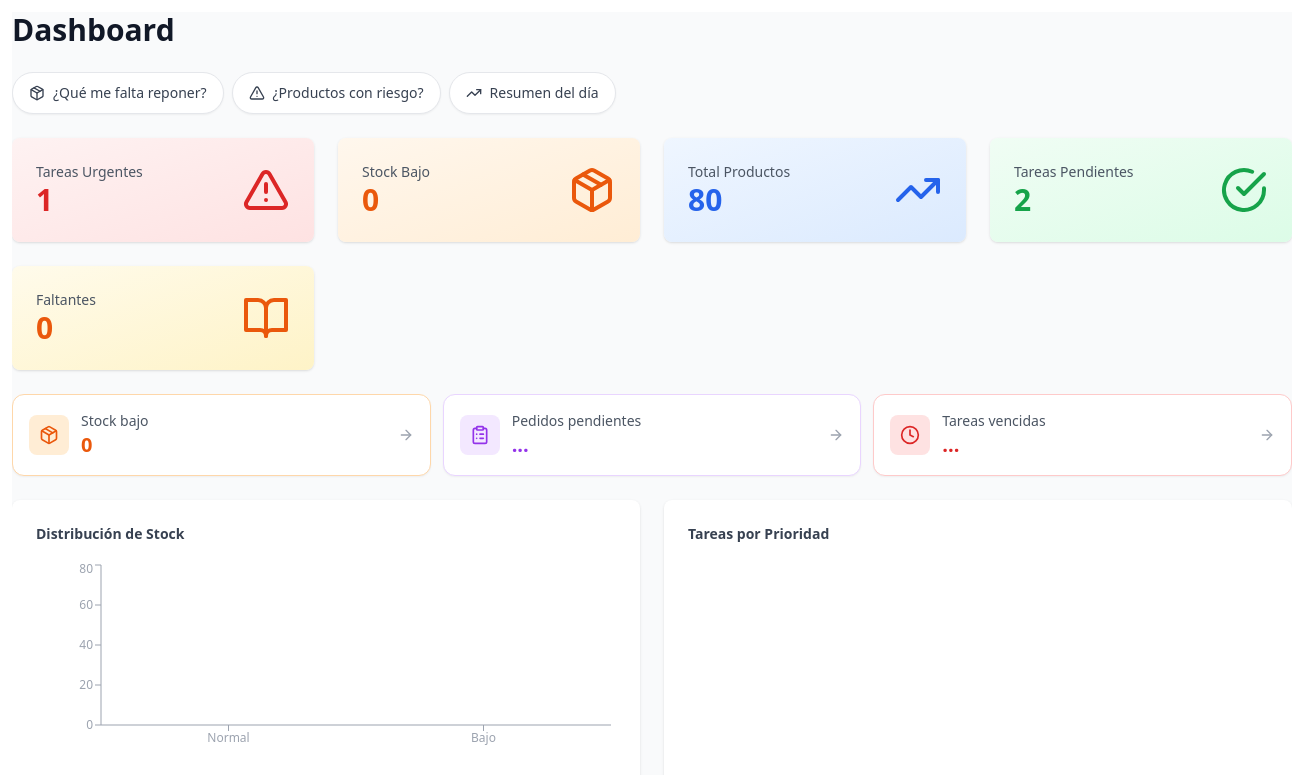
Test: Dashboard › V2-08: clicking resumen chip shows summary with CTAs
The image size is (1304, 775).
Click the button "Resumen del día".
click(532, 93)  # box [449,72,616,114]
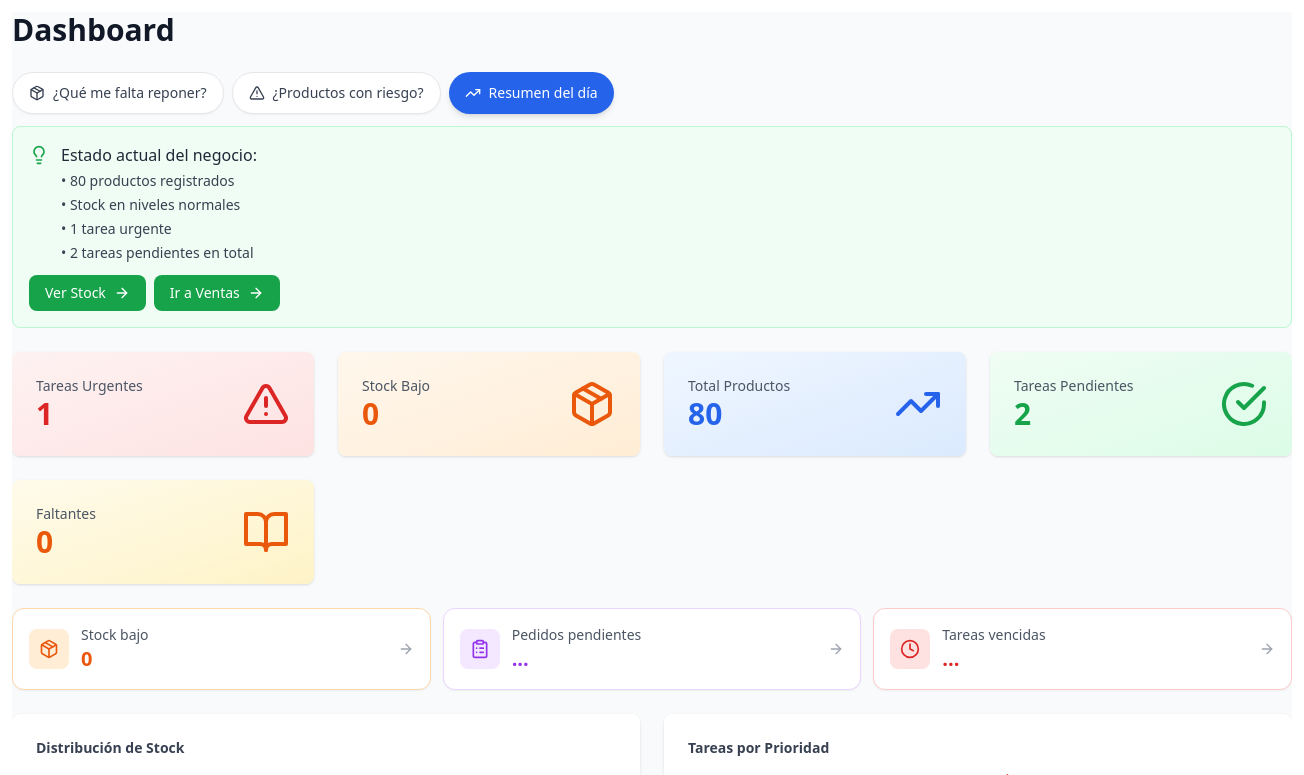
Result: the list item "• 80 productos registrados" is shown at [61,171,257,191]
Result: the list item "• 1 tarea urgente" is shown at [61,219,172,238]
Result: the link "Ver Stock" is shown at [29,275,146,311]
